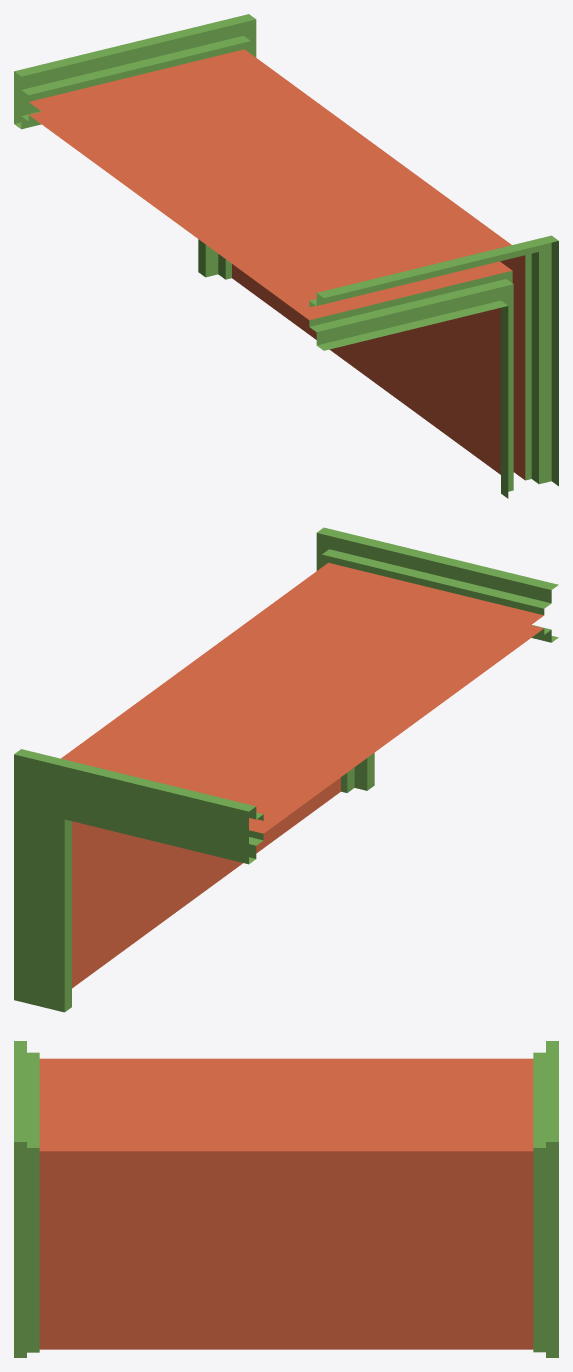
Rendered from Env_Wall_LA.fbx.
3 renders of one model, top to bottom at view 1: azimuth 30°, elevation 25°; view 2: azimuth 150°, elevation 25°; view 3: azimuth 270°, elevation 25°, orthographic. The views are drawn at different scales.
Parts seen in each view (by area): view 1: Env_Wall_LA; view 2: Env_Wall_LA; view 3: Env_Wall_LA.
Part boxes in pixels (x1,y1,x2,y2): Env_Wall_LA: (14,14,558,498); Env_Wall_LA: (14,527,558,1012); Env_Wall_LA: (14,1041,558,1357).
Bounding box in the file's own units: 1.12 × 1.12 × 2.56.
